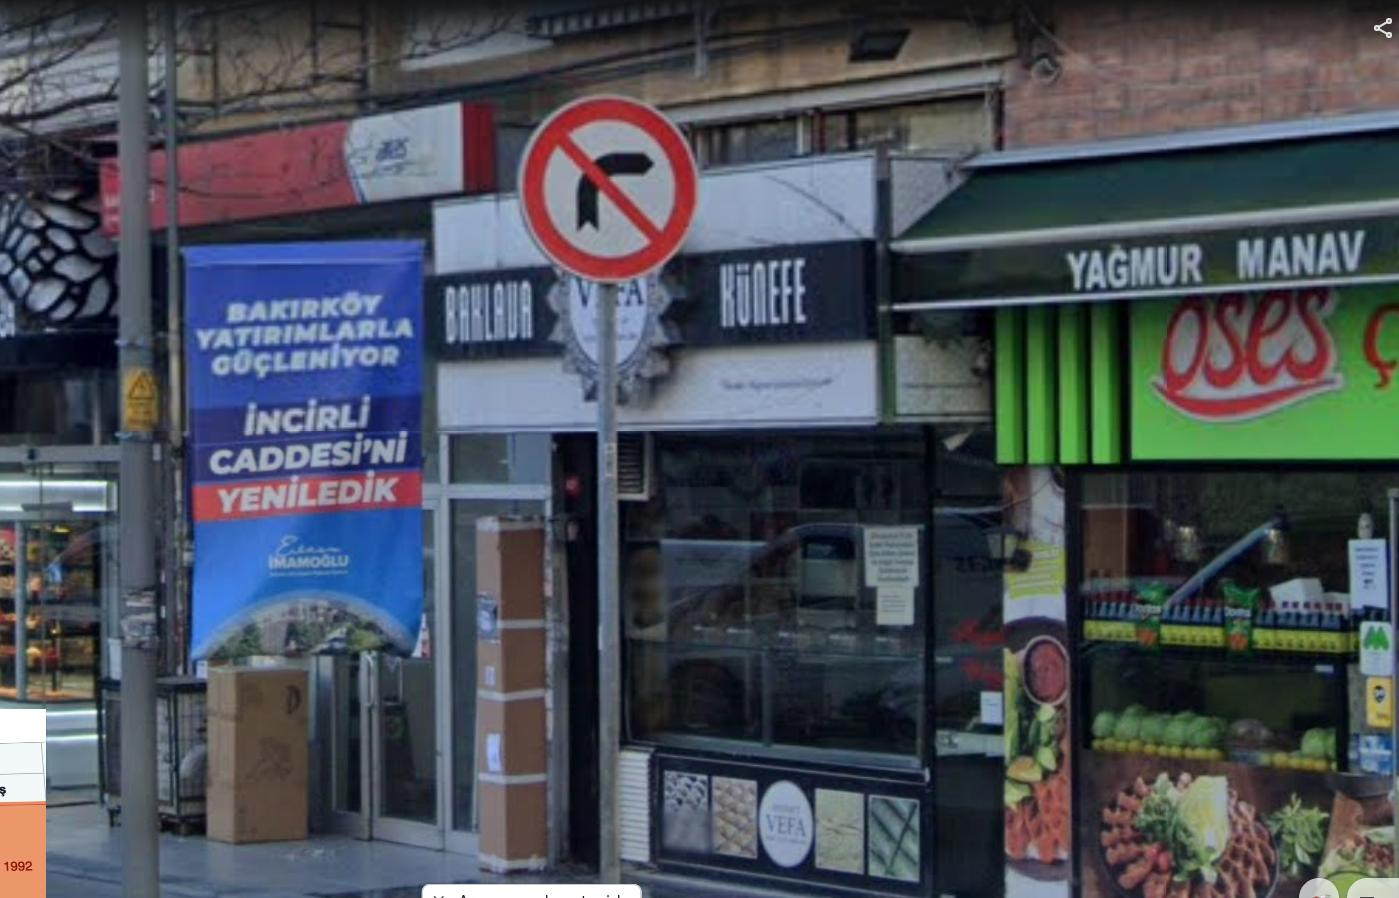leftturnsareforbidden: (531, 106, 691, 270)
